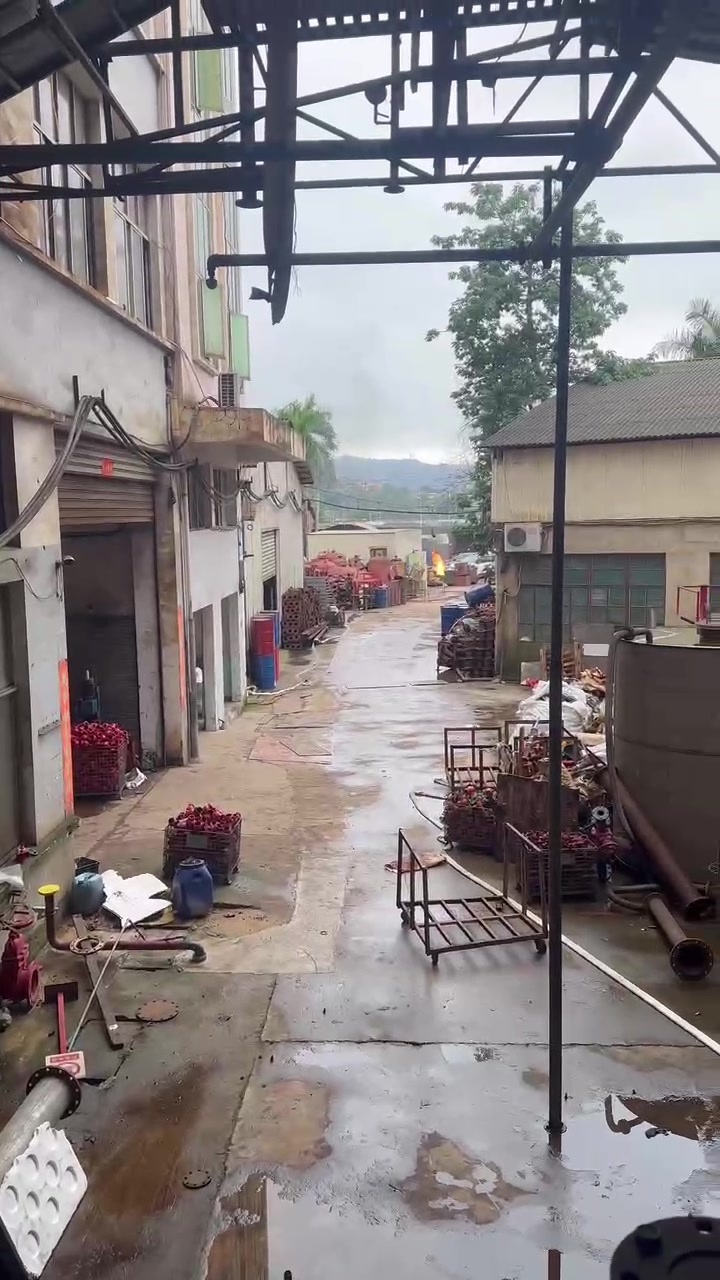fire: (431, 550, 445, 575)
